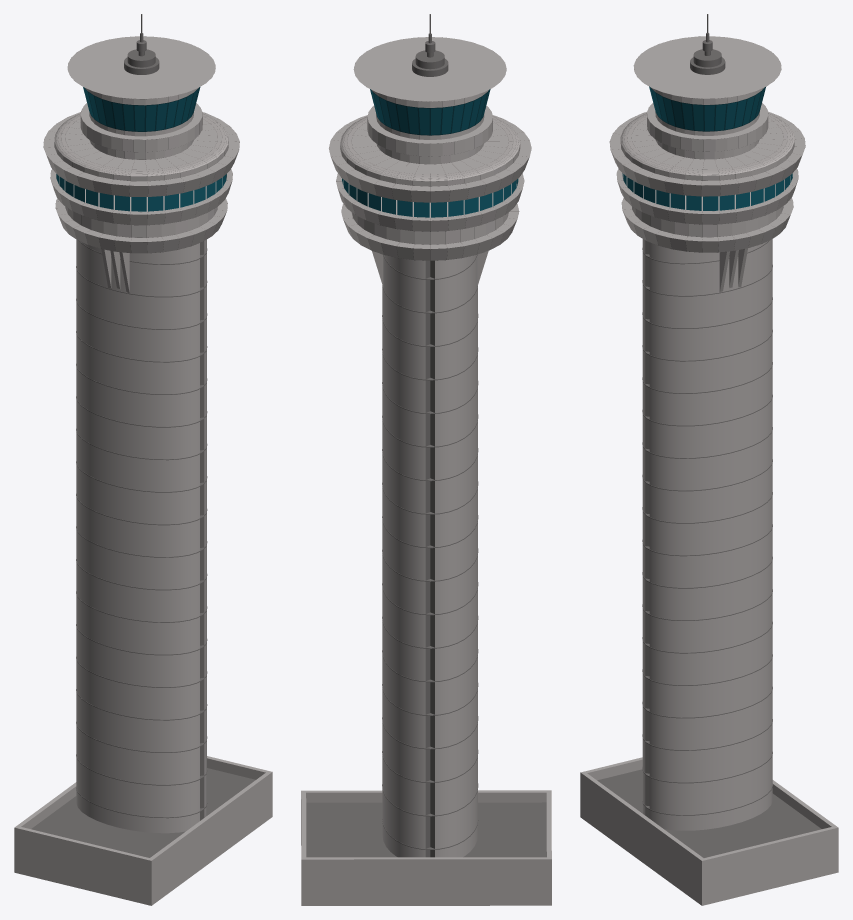
Rendered from RJTTtower.glb.
3 views of the same model, side by side, from view 1: azimuth 30°, elevation 25°; view 2: azimuth 150°, elevation 25°; view 3: azimuth 270°, elevation 25° (orthographic). The views are drawn at different scales.
Parts seen in each view (by area): view 1: Cylinder, Cube; view 2: Cylinder, Cube; view 3: Cylinder, Cube.
Boxes of the visible parts, <box> form: Cylinder: <box>43,14,239,833</box>; Cube: <box>14,756,272,905</box>; Cylinder: <box>329,14,531,857</box>; Cube: <box>301,790,551,905</box>; Cylinder: <box>609,14,805,830</box>; Cube: <box>580,757,838,905</box>.
Size of the model in its own units: 36.49 by 116 by 32.61.
